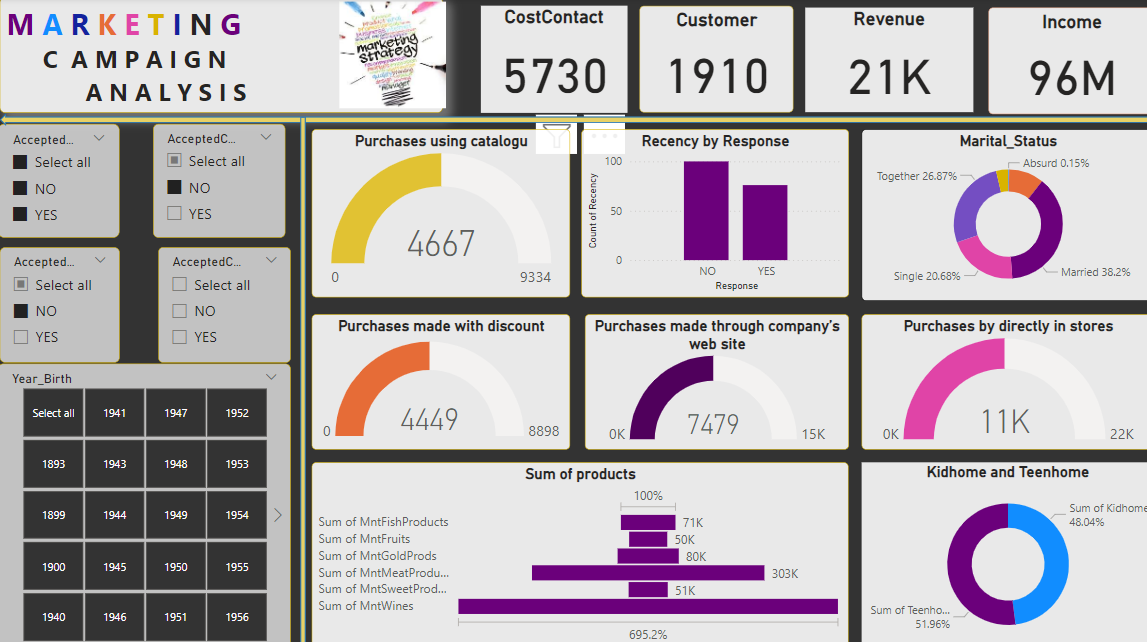

The page's visual inventory and layout, read from the dashboard file:
{"tool":"powerbi","page":{"name":"Page 1","canvas":[1280,720],"ordinal":0},"visuals":[{"type":"card","title":"Revenue ","fields":{"Values":["Sum(Sheet1.Z_Revenue)"]},"box":[894,12,186,116],"z":0},{"type":"card","title":"CostContact","fields":{"Values":["Sum(Sheet1.Z_CostContact)"]},"box":[534,10,162,118],"z":1000},{"type":"card","title":"Income ","fields":{"Values":["Sum(Sheet1.Income)"]},"box":[1096,12,184,118],"z":2000},{"type":"donutChart","title":" Marital_Status","fields":{"Y":["Sum(Sheet1.Income)"],"Series":["Sheet1.Marital_Status"]},"box":[956,146,324,190],"z":3000},{"type":"card","title":"Customer ","fields":{"Values":["CountNonNull(Sheet1.ID)"]},"box":[710,10,170,118],"z":4000},{"type":"clusteredColumnChart","title":" Recency by Response","fields":{"Y":["Count(Sheet1.Recency)"],"Category":["Sheet1.Response"]},"box":[646,146,296,186],"z":5000},{"type":"gauge","title":" Purchases using catalogu","fields":{"Y":["Sum(Sheet1.NumCatalogPurchases)"]},"box":[348,146,286,186],"z":6000},{"type":"gauge","title":" Purchases made with discount","fields":{"Y":["Sum(Sheet1.NumDealsPurchases)"]},"box":[348,352,286,150],"z":7000},{"type":"gauge","title":"Purchases by directly in stores","fields":{"Y":["Sum(Sheet1.NumStorePurchases)"]},"box":[956,352,324,150],"z":8000},{"type":"gauge","title":"Purchases made through company’s web site","fields":{"Y":["Sum(Sheet1.NumWebPurchases)"]},"box":[650,352,292,150],"z":9000},{"type":"funnel","title":"Sum of products","fields":{"Y":["Sum(Sheet1.MntFishProducts)","Sum(Sheet1.MntFruits)","Sum(Sheet1.MntGoldProds)","Sum(Sheet1.MntMeatProducts)","Sum(Sheet1.MntSweetProducts)","Sum(Sheet1.MntWines)"]},"box":[348,514,594,206],"z":10000},{"type":"donutChart","title":" Kidhome and Teenhome","fields":{"Y":["Sum(Sheet1.Kidhome)","Sum(Sheet1.Teenhome)"]},"box":[956,514,324,206],"z":11000},{"type":"textbox","box":[2,0,490,128],"z":12000},{"type":"slicer","fields":{"Values":["Sheet1.AcceptedCmp2"]},"box":[0,141.2,134.3,125.7],"z":13000},{"type":"slicer","fields":{"Values":["Sheet1.AcceptedCmp4"]},"box":[1.7,277.3,132.6,127.5],"z":14000},{"type":"slicer","fields":{"Values":["Sheet1.Year_Birth"]},"box":[0,404.8,323.8,315.2],"z":15000},{"type":"slicer","fields":{"Values":["Sheet1.AcceptedCmp5"]},"box":[177.4,277.3,146.4,127.5],"z":16000},{"type":"slicer","fields":{"Values":["Sheet1.AcceptedCmp3"]},"box":[172.2,141.2,146.4,125.7],"z":17000},{"type":"shape","box":[2,128,1278,14],"z":18000},{"type":"shape","box":[332,132,12,588],"z":19000},{"type":"image","box":[364,0,144,128],"z":20000}]}

Visuals, with their boxes in screenshot pixels (x1, y1, x2, y2), scaled from the page's 1280x720 canvas onto the 1147x642 screenshot:
"Revenue " card: (x1=801, y1=11, x2=968, y2=114)
"CostContact" card: (x1=479, y1=9, x2=624, y2=114)
"Income " card: (x1=982, y1=11, x2=1146, y2=116)
" Marital_Status" donutChart: (x1=857, y1=130, x2=1146, y2=300)
"Customer " card: (x1=636, y1=9, x2=789, y2=114)
" Recency by Response" clusteredColumnChart: (x1=579, y1=130, x2=844, y2=296)
" Purchases using catalogu" gauge: (x1=312, y1=130, x2=568, y2=296)
" Purchases made with discount" gauge: (x1=312, y1=314, x2=568, y2=448)
"Purchases by directly in stores" gauge: (x1=857, y1=314, x2=1146, y2=448)
"Purchases made through company’s web site" gauge: (x1=582, y1=314, x2=844, y2=448)
"Sum of products" funnel: (x1=312, y1=458, x2=844, y2=641)
" Kidhome and Teenhome" donutChart: (x1=857, y1=458, x2=1146, y2=641)
textbox: (x1=2, y1=0, x2=441, y2=114)
slicer - Sheet1.AcceptedCmp2: (x1=0, y1=126, x2=120, y2=238)
slicer - Sheet1.AcceptedCmp4: (x1=2, y1=247, x2=120, y2=361)
slicer - Sheet1.Year_Birth: (x1=0, y1=361, x2=290, y2=641)
slicer - Sheet1.AcceptedCmp5: (x1=159, y1=247, x2=290, y2=361)
slicer - Sheet1.AcceptedCmp3: (x1=154, y1=126, x2=285, y2=238)
shape: (x1=2, y1=114, x2=1146, y2=127)
shape: (x1=298, y1=118, x2=308, y2=641)
image: (x1=326, y1=0, x2=455, y2=114)
